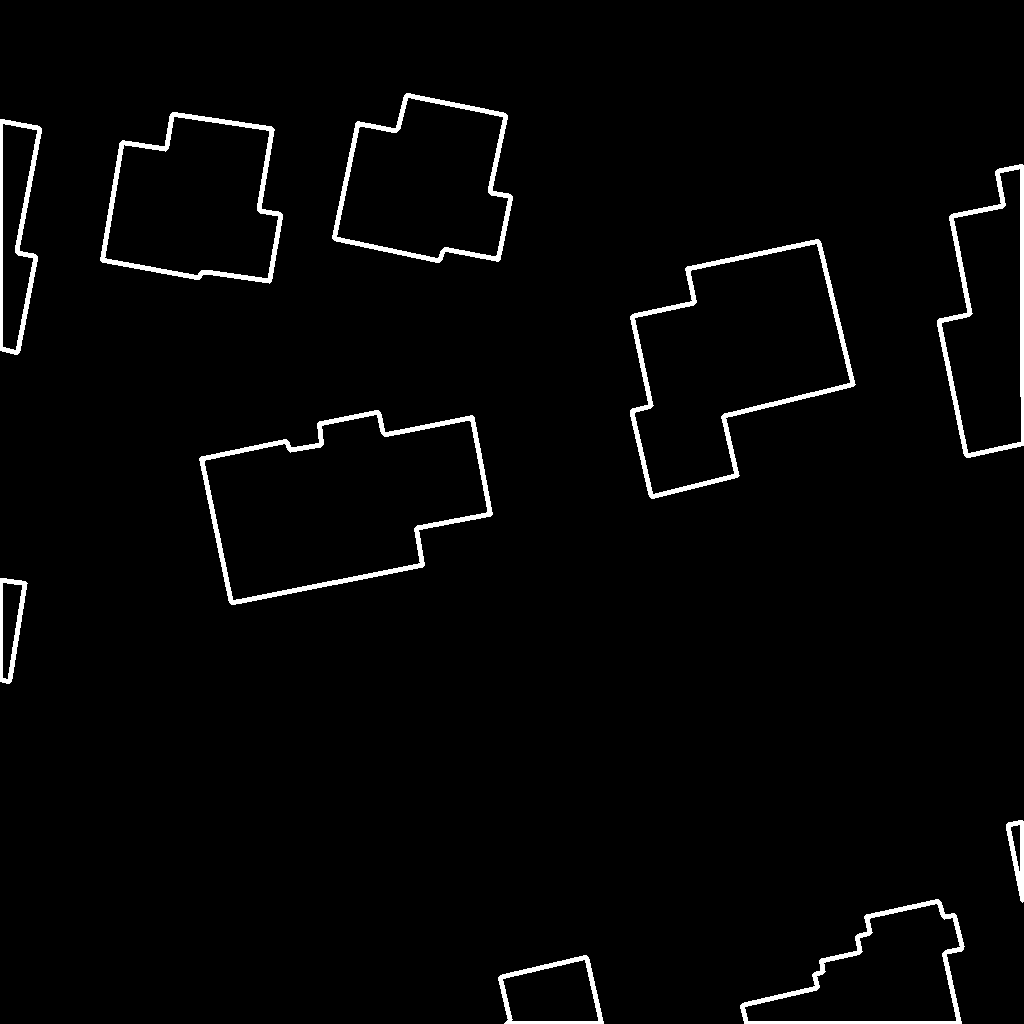building: (632, 241, 854, 498), (201, 412, 492, 604), (102, 114, 282, 282), (334, 95, 512, 262), (742, 901, 963, 1024), (939, 166, 1024, 457), (0, 121, 41, 354), (500, 957, 603, 1024), (0, 580, 26, 683), (1008, 822, 1024, 904)
